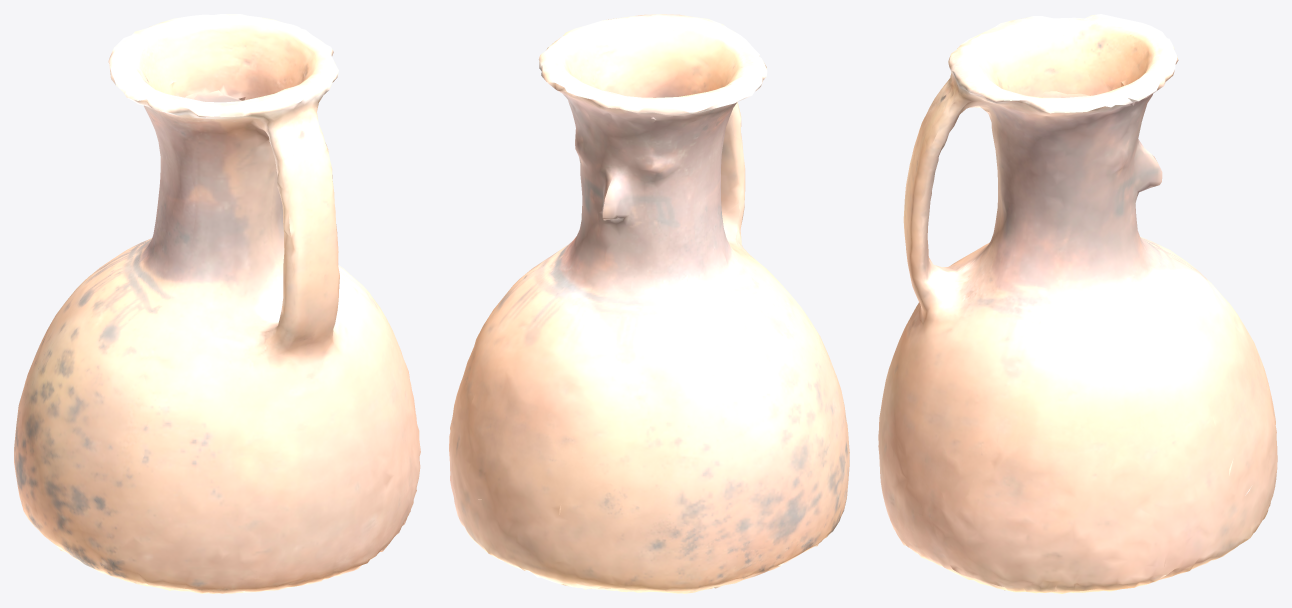
3 renders of one model, left to right at view 1: azimuth 30°, elevation 25°; view 2: azimuth 150°, elevation 25°; view 3: azimuth 270°, elevation 25°, orthographic.
Parts seen in each view (by area): view 1: Object_2; view 2: Object_2; view 3: Object_2.
Boxes of the visible parts, <box> form: Object_2: <box>14,14,420,593</box>; Object_2: <box>449,14,849,593</box>; Object_2: <box>878,14,1277,593</box>.
Size of the model in its own units: 0.7031 by 0.9249 by 0.6918.
